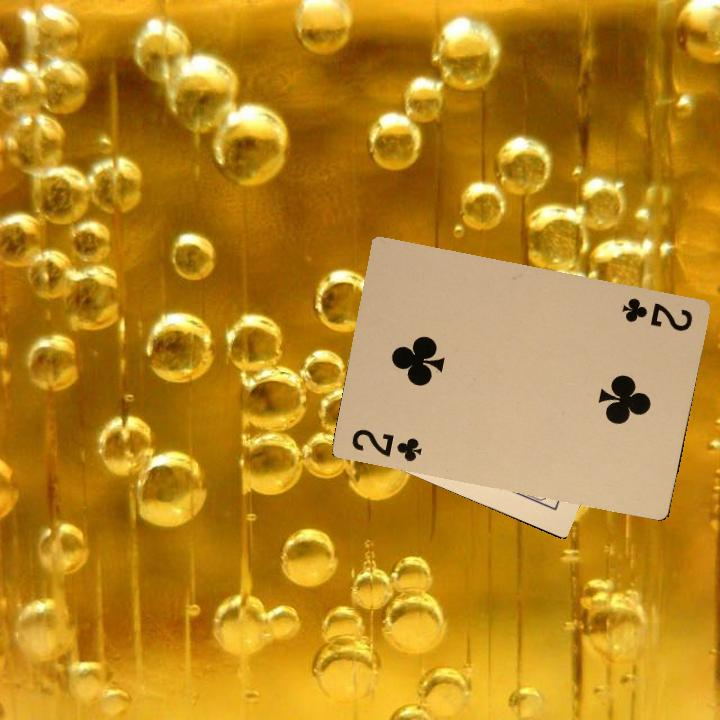2c: (617, 293, 695, 334), (347, 425, 424, 465)
